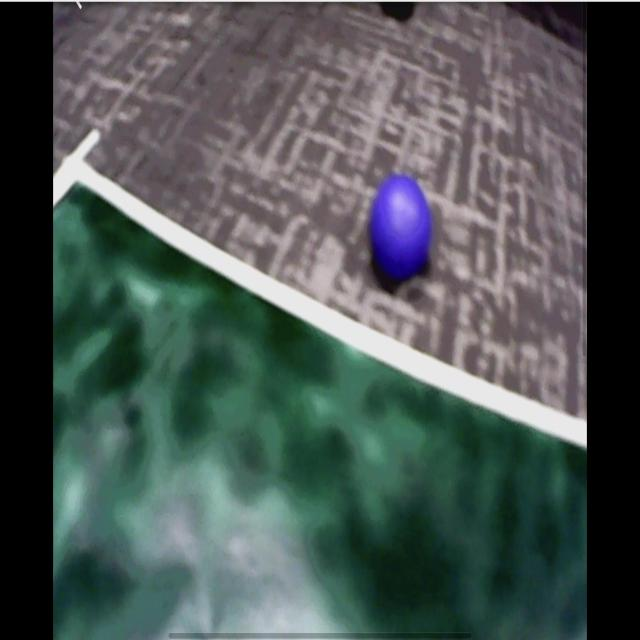ball: (371, 176, 432, 279)
